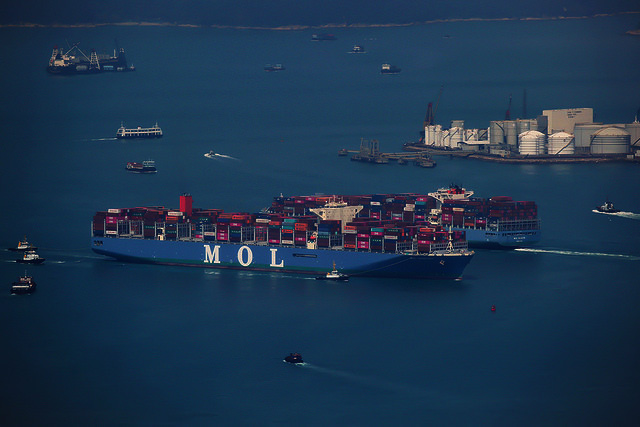boat: (115, 117, 165, 138), (119, 158, 162, 174), (280, 347, 306, 366)
container_ship: (82, 195, 471, 283)
tug_boat: (313, 258, 351, 285), (595, 192, 622, 217), (11, 273, 37, 294), (13, 252, 48, 265), (9, 238, 36, 253)
